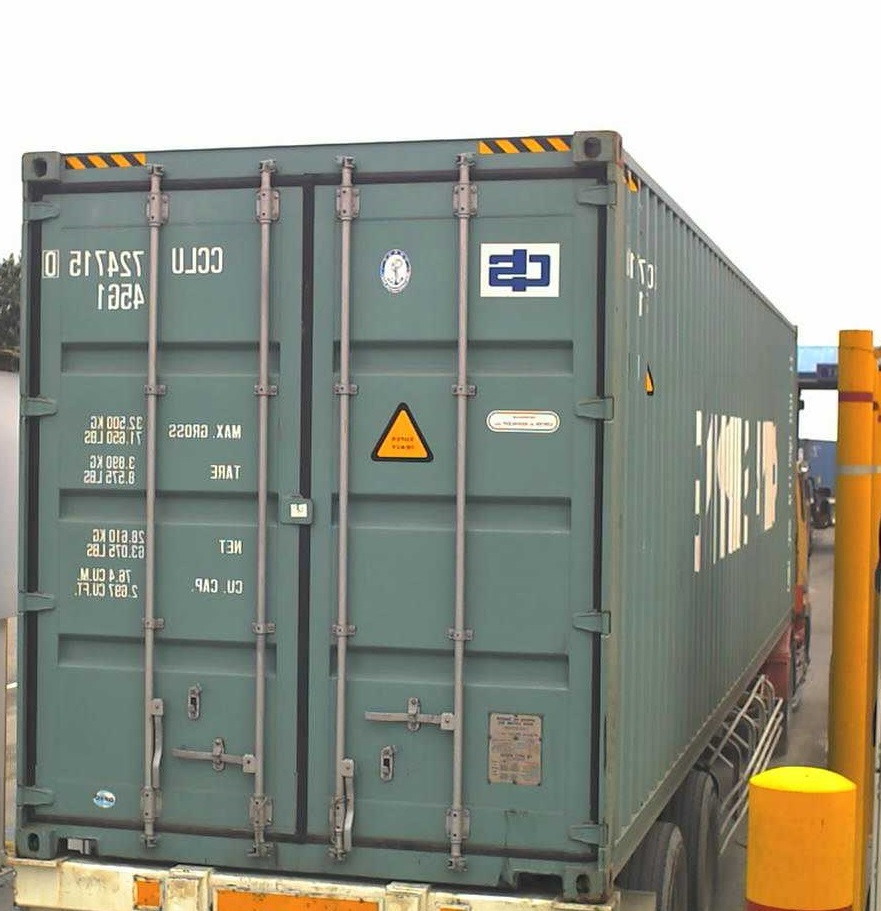container_door: (16, 127, 620, 871)
